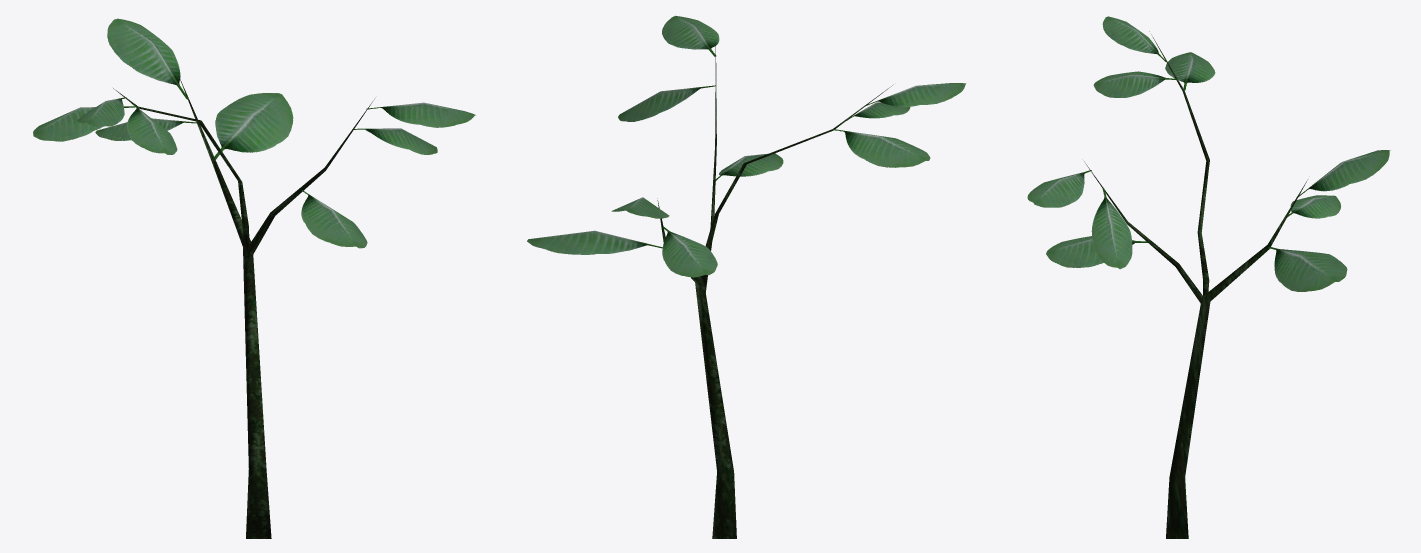
The model's file is leaf_sapling_a1_l0.fbx.
3 renders of one model, left to right at view 1: azimuth 30°, elevation 25°; view 2: azimuth 150°, elevation 25°; view 3: azimuth 270°, elevation 25°, orthographic. The views are drawn at different scales.
Visible parts, largest first — view 1: mesh_node; view 2: mesh_node; view 3: mesh_node.
Part boxes in pixels (x1,y1,x2,y2): mesh_node: (33, 18, 475, 538); mesh_node: (527, 15, 966, 538); mesh_node: (1027, 16, 1390, 538).
Bounding box in the file's own units: 1.49 × 1.84 × 1.53.
1 material, 1 textured.
